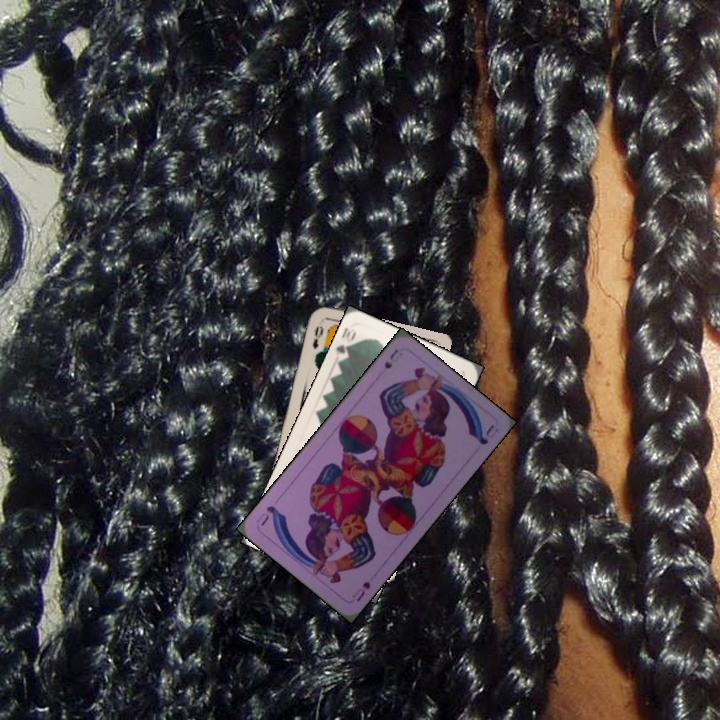EO: (308, 322, 326, 352)
G10: (332, 324, 359, 363)
SU: (348, 577, 373, 604), (380, 345, 401, 371)
